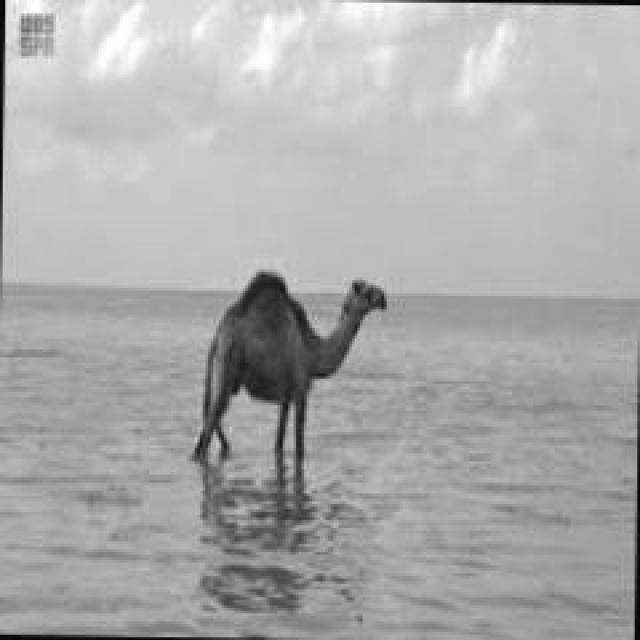Camel: (189, 269, 387, 475)
